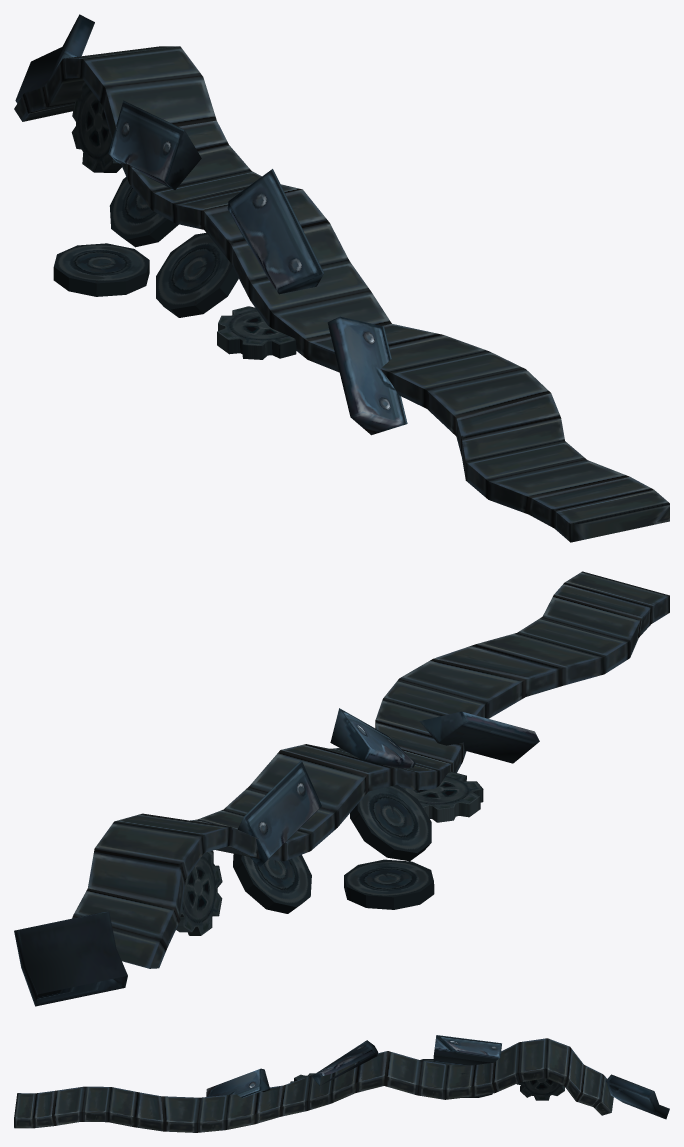
File: T_tank_break_04.fbx
3 renders of one model, top to bottom at view 1: azimuth 30°, elevation 25°; view 2: azimuth 150°, elevation 25°; view 3: azimuth 270°, elevation 25°, orthographic. The views are drawn at different scales.
Visible parts, largest first — view 1: T_tank_break_04; view 2: T_tank_break_04; view 3: T_tank_break_04.
Part boxes in pixels (x1,y1,x2,y2): T_tank_break_04: (14,14,669,542); T_tank_break_04: (14,571,669,1006); T_tank_break_04: (14,1035,669,1132).
Size of the model in its own units: 206 by 121 by 876.
1 material, 1 textured.
